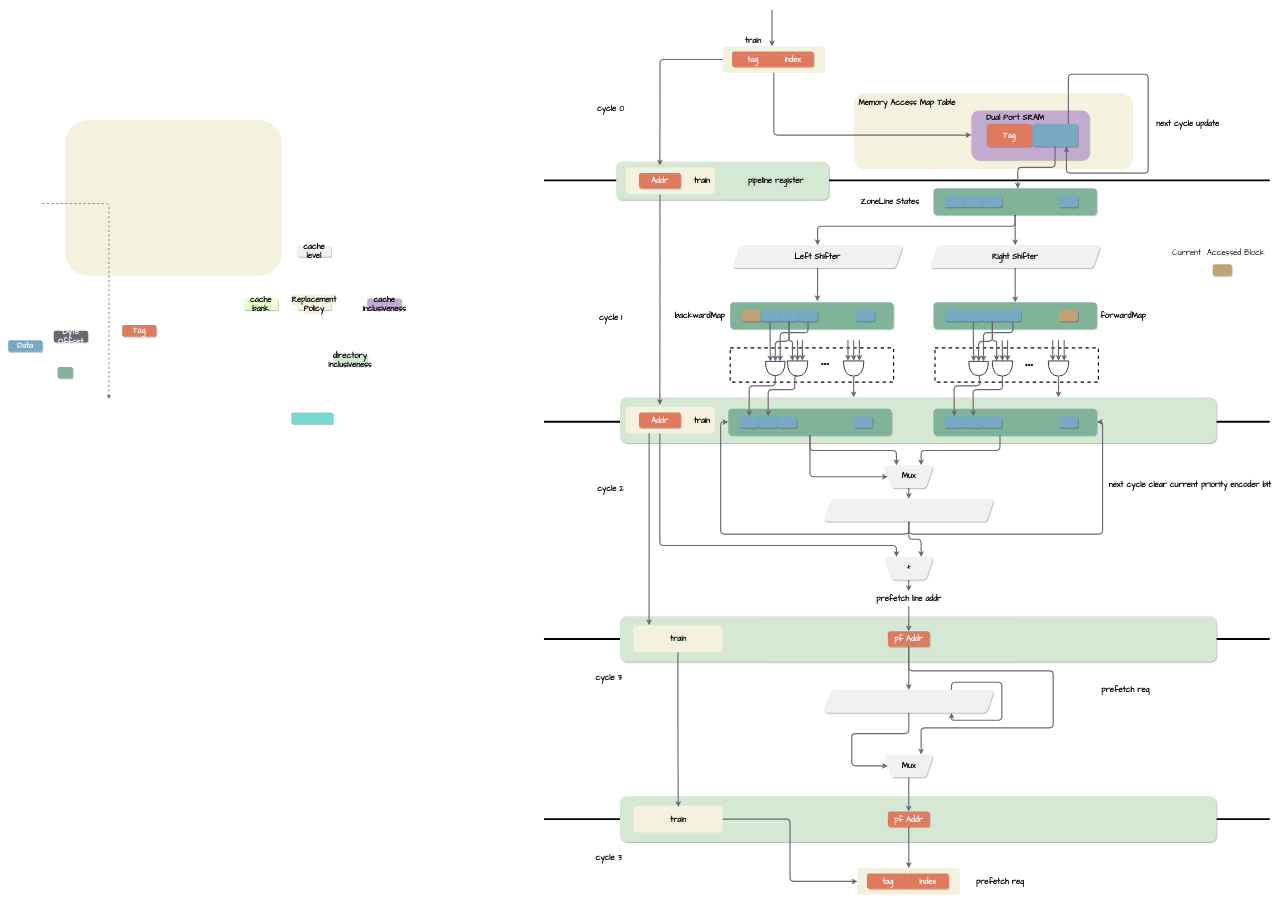
Some shapes in this 1284 by 901 pixel diagram are drawn without their labels. Each missing label, with the centre of its shape:
Filter: the point at 909,701
Map: the point at 1055,135
PriorityEncoder: the point at 909,510
Replacement Attack: the point at 312,418
Valid: the point at 65,373
